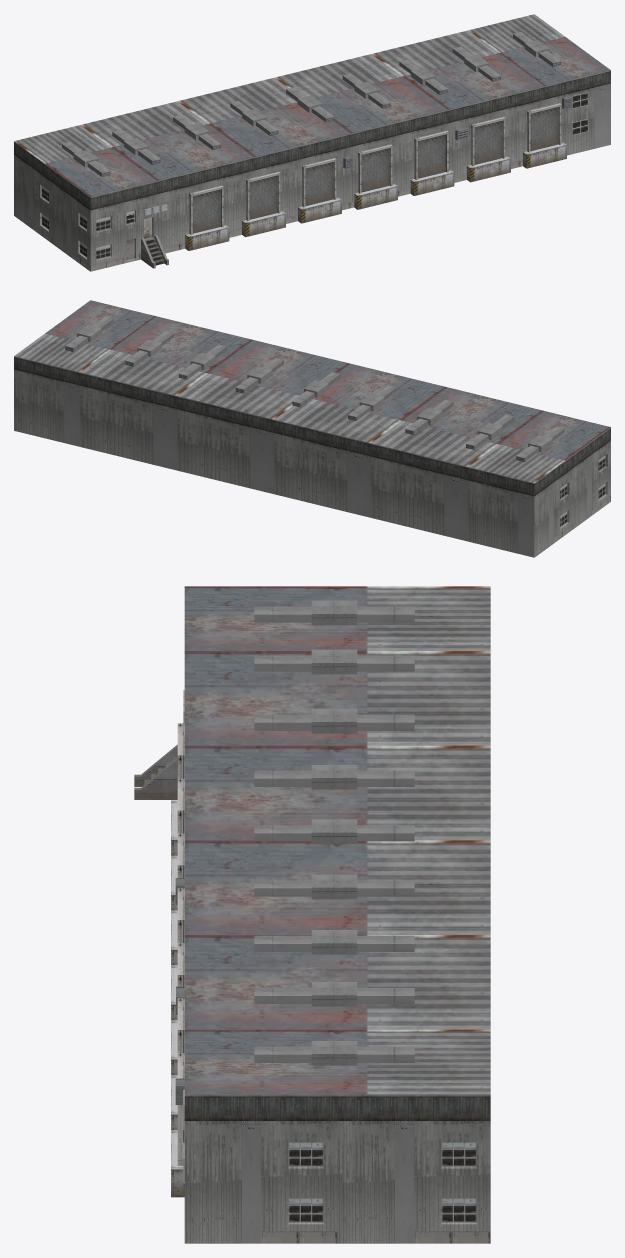
Rendered from ind-terminal.lod0.glb.
3 views of the same model, one above another, from view 1: azimuth 30°, elevation 25°; view 2: azimuth 150°, elevation 25°; view 3: azimuth 270°, elevation 25° (orthographic). The views are drawn at different scales.
Visible parts, largest first — view 1: Industrial_LogisticTerminal_1_Industrial_Walls_FLR_1_0, Industrial_LogisticTerminal_1_Industrial_Trim_FLR_1_0; view 2: Industrial_LogisticTerminal_1_Industrial_Walls_FLR_1_0, Industrial_LogisticTerminal_1_Industrial_Trim_FLR_1_0; view 3: Industrial_LogisticTerminal_1_Industrial_Walls_FLR_1_0, Industrial_LogisticTerminal_1_Industrial_Trim_FLR_1_0.
Boxes of the visible parts, x1,y1,x2,y2 form: Industrial_LogisticTerminal_1_Industrial_Walls_FLR_1_0: [14, 14, 610, 271]; Industrial_LogisticTerminal_1_Industrial_Trim_FLR_1_0: [42, 32, 588, 268]; Industrial_LogisticTerminal_1_Industrial_Walls_FLR_1_0: [14, 300, 610, 557]; Industrial_LogisticTerminal_1_Industrial_Trim_FLR_1_0: [65, 316, 605, 526]; Industrial_LogisticTerminal_1_Industrial_Walls_FLR_1_0: [184, 586, 490, 1243]; Industrial_LogisticTerminal_1_Industrial_Trim_FLR_1_0: [134, 600, 476, 1222].
Size of the model in its own units: 53.43 by 7.88 by 15.85.
Materials: 2 (2 with a texture image).
